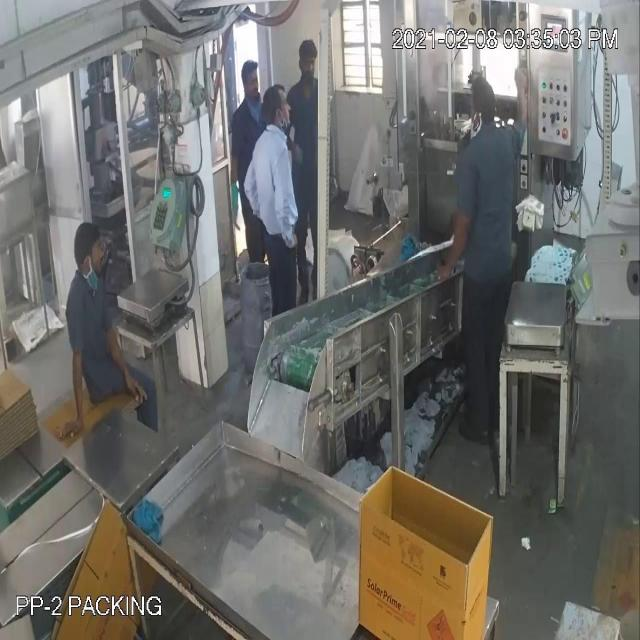No_Gloves: (20, 102, 521, 392)
